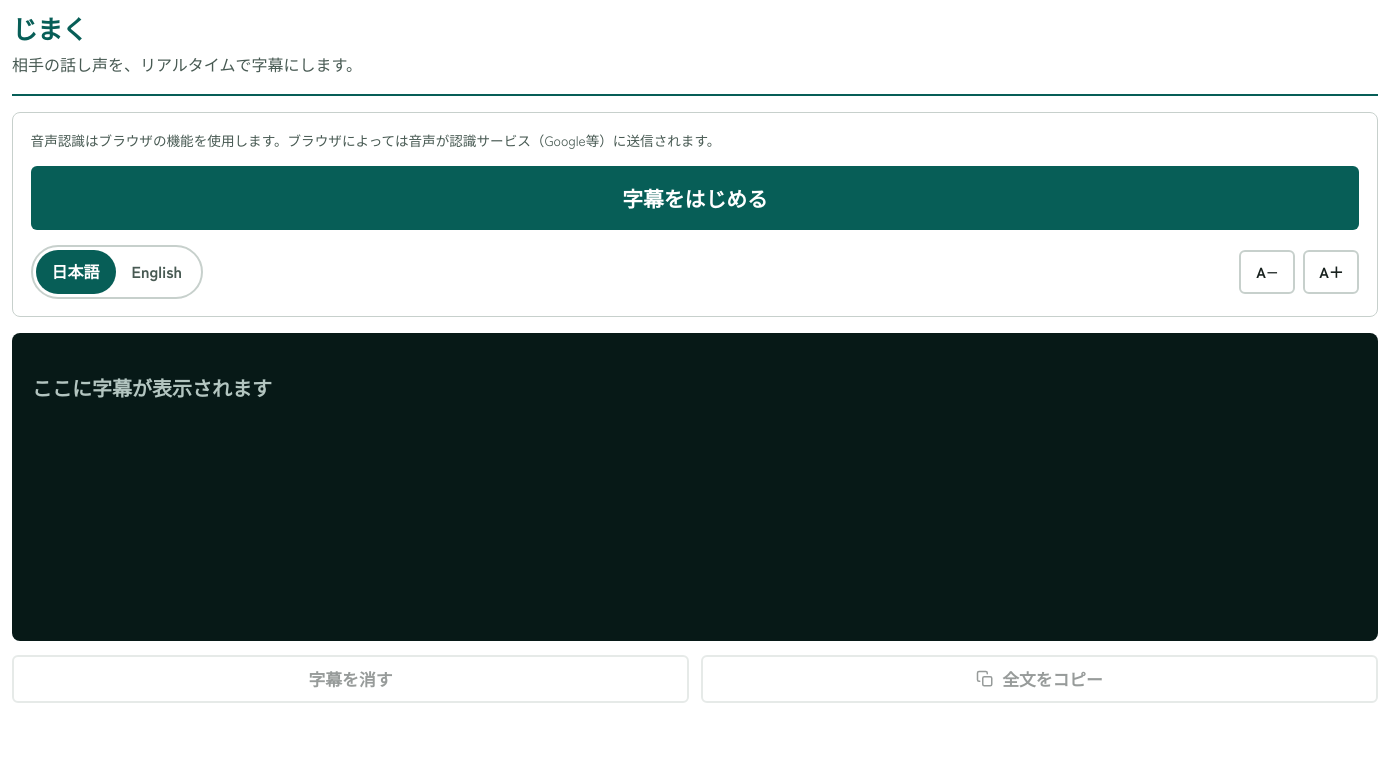
Scenario: Captions › stops and offers writing for language-not-supported errors
The width and height of the screenshot is (1390, 759).
Click the button "字幕をはじめる".
click(695, 198)  # box [31, 166, 1359, 230]
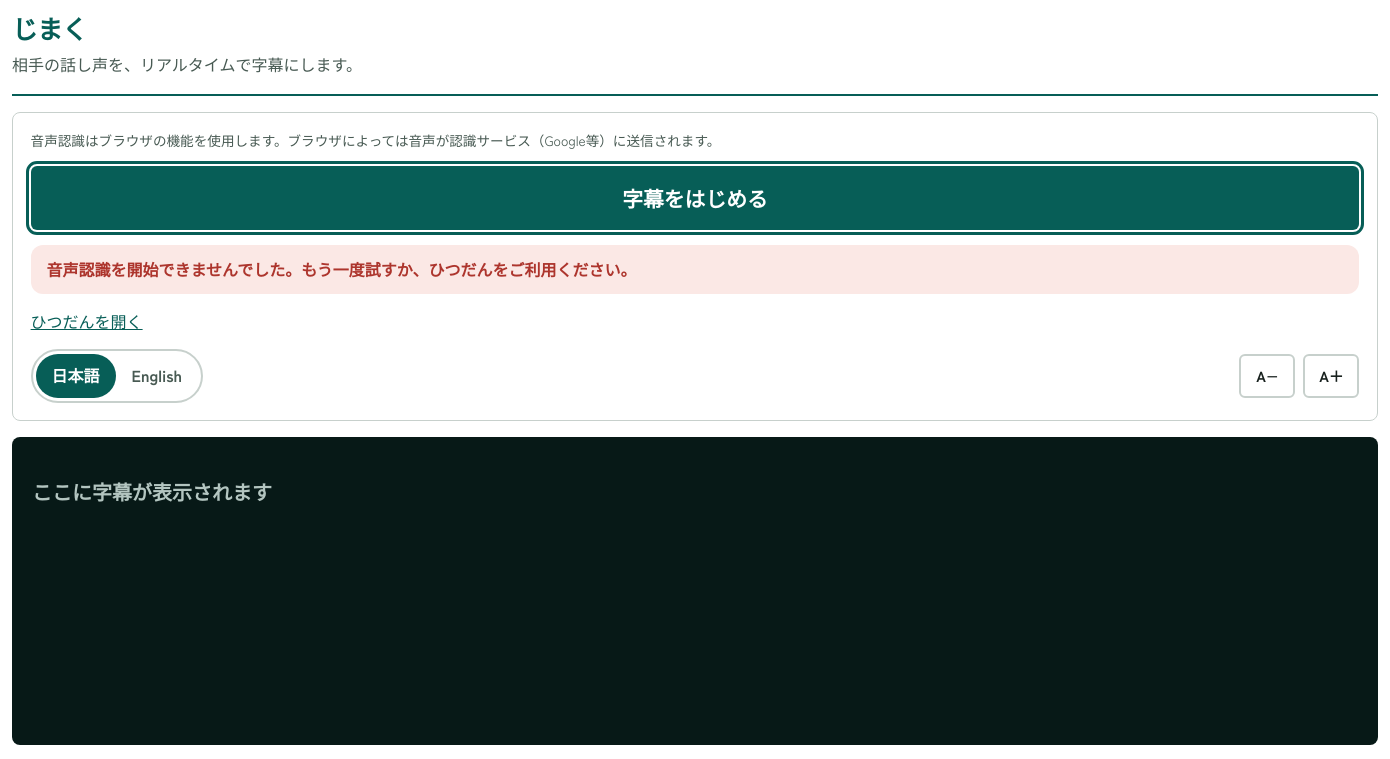
Check: the message "音声認識を開始できませんでした。もう一度試すか、ひつだんをご利用ください。" is shown, box [31, 245, 1359, 294]
Check: the link "ひつだんを開く" is shown, box [31, 309, 143, 333]
